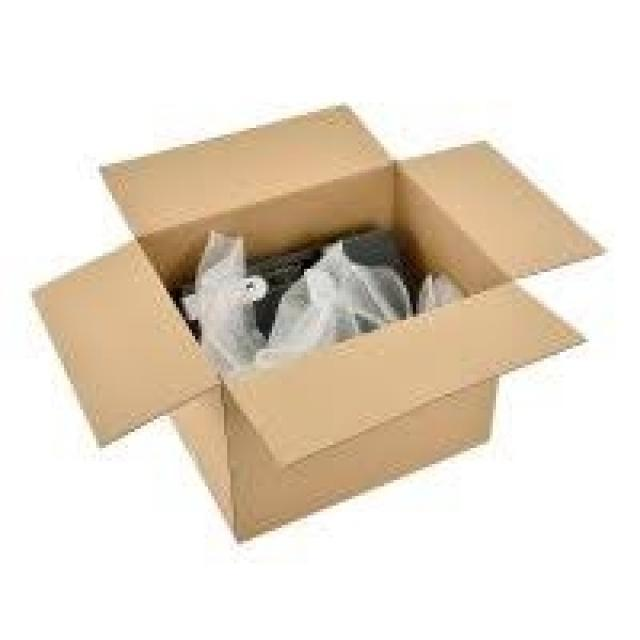cardboard: (30, 100, 607, 542)
plastic-waste: (178, 225, 461, 378)
